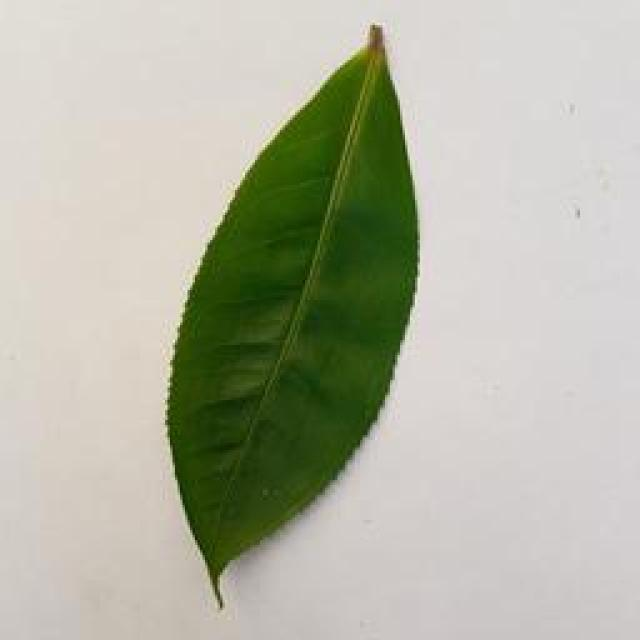Healthy: (144, 24, 455, 616)
